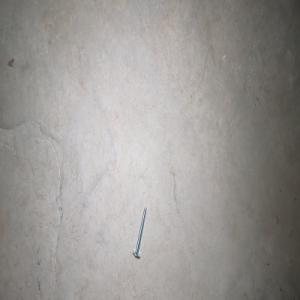Bolt: (132, 206, 146, 258)
